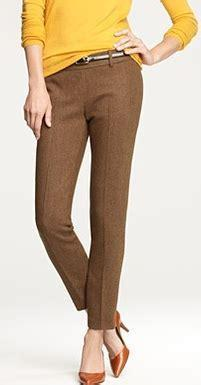pants: (36, 49, 145, 329)
